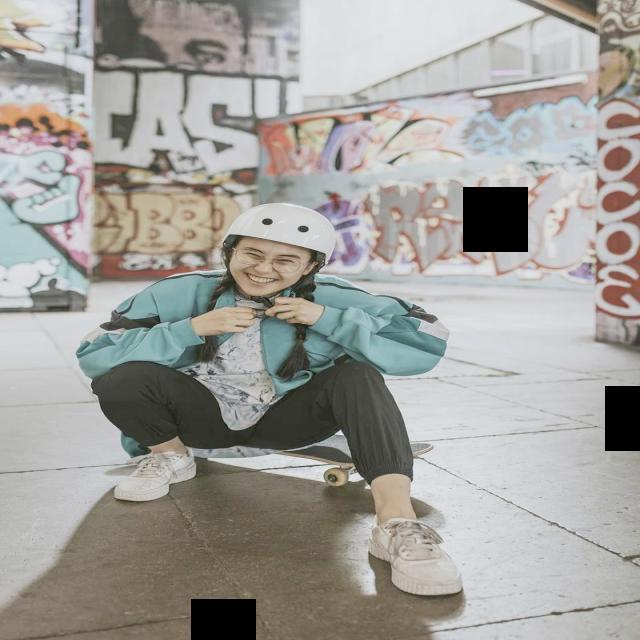helmet: (221, 202, 337, 267)
